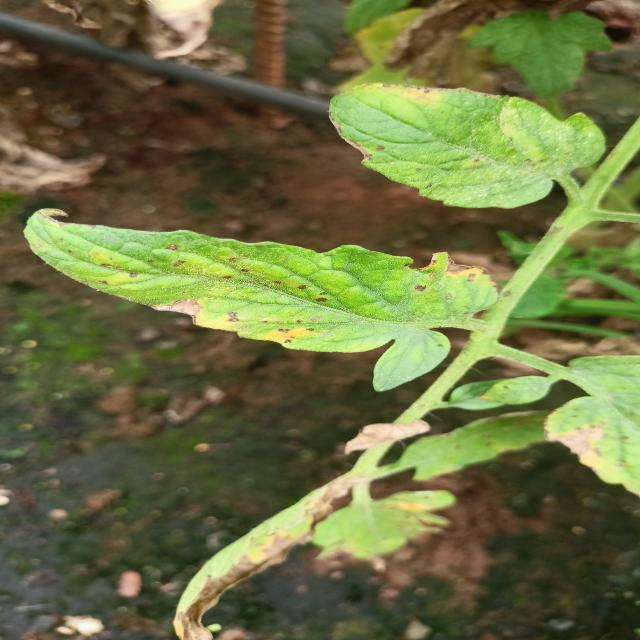Tomato mosaic virus leaf: (14, 205, 501, 358), (320, 78, 613, 210)
